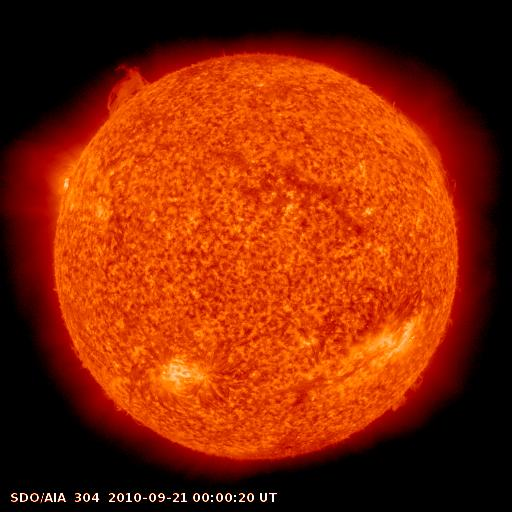prominence: (404, 112, 460, 204), (92, 57, 159, 119), (383, 356, 433, 419)
